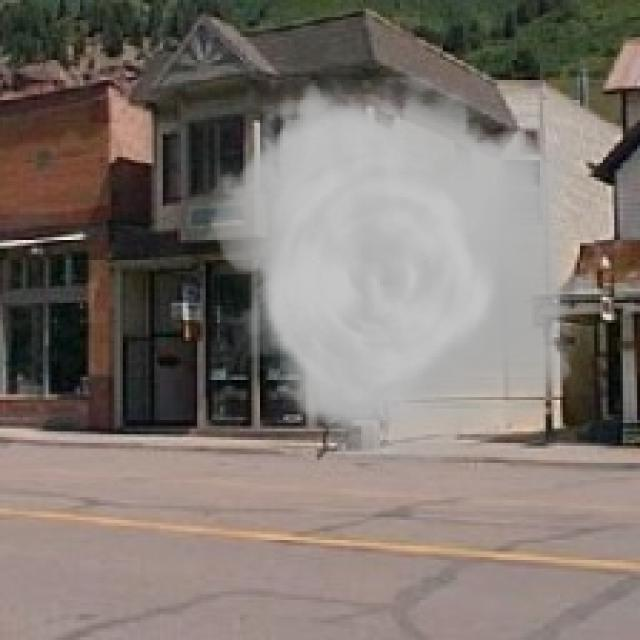Smoke: (197, 77, 592, 469)
